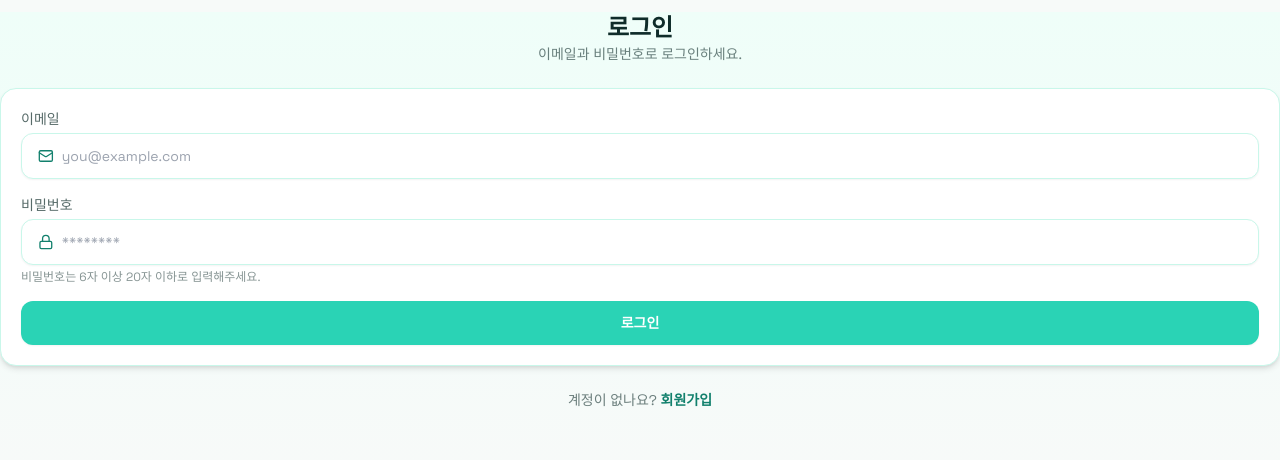
Scenario: Login › 로그인에_실패하면_공통_실패_메시지를_노출한다
Type "member@test.com" into the field labelled "이메일" at [652, 156], box [62,146,1242,166]
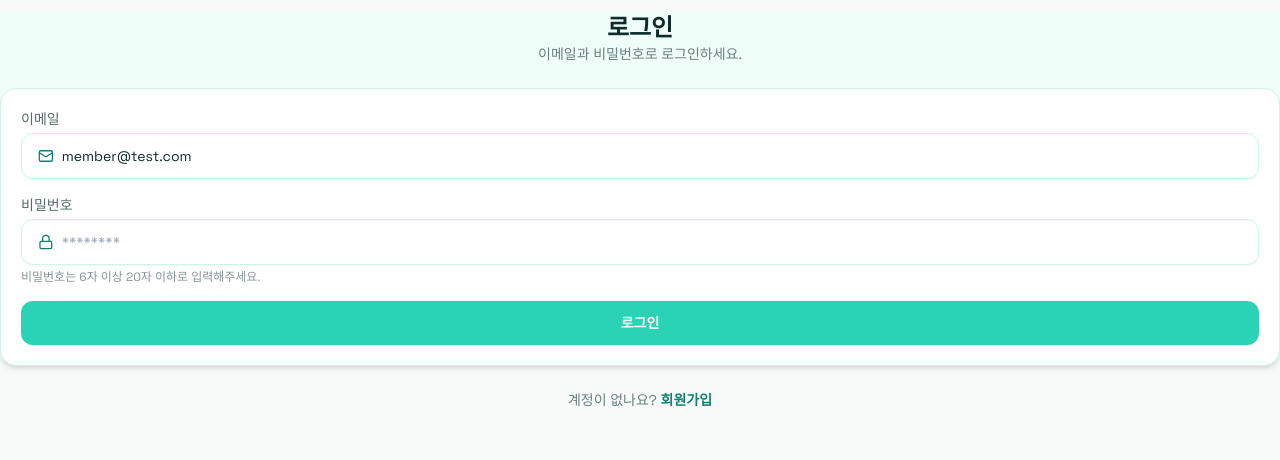
Type "wrongpass" into the password field labelled "비밀번호 비밀번호는 6자 이상 20자 이하로 입력해주세요." at [652, 242], box [62,232,1242,252]
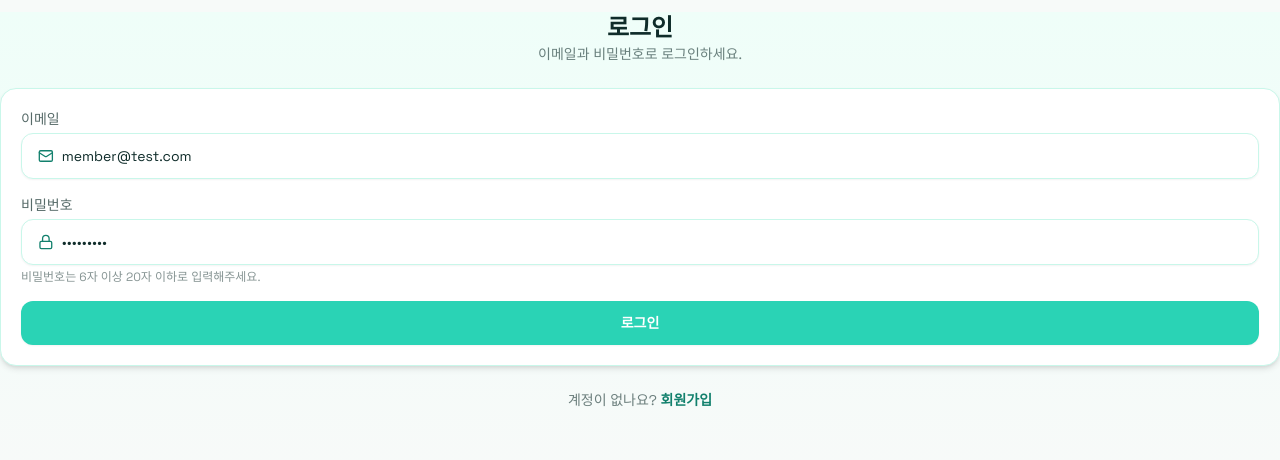
Click the button "로그인" at [640, 323], box [21,301,1259,345]
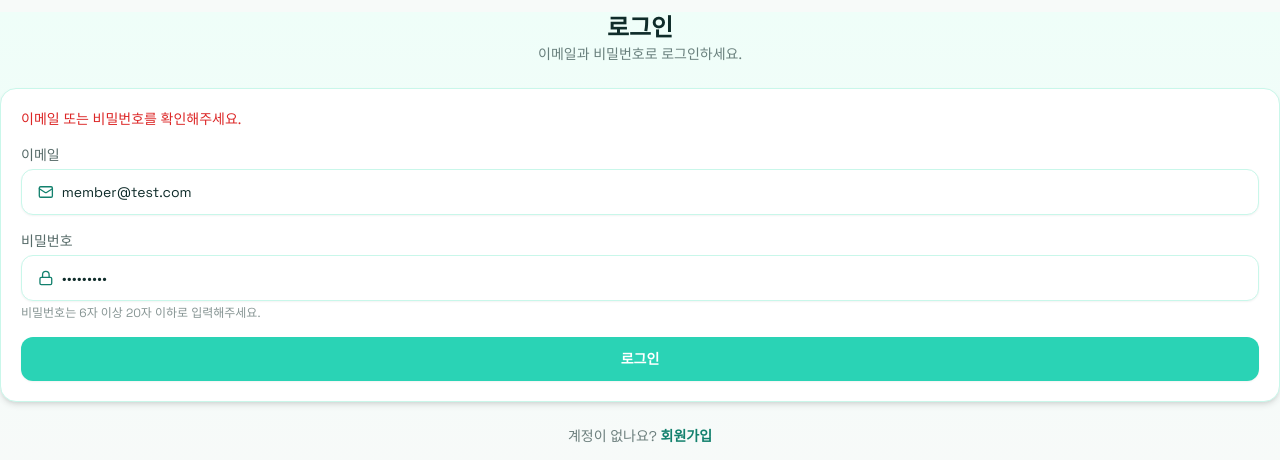
Check: the text "비밀번호는 6자 이상 20자 이하로 입력해주세요." is shown, box [21,305,260,321]
Check: the text "이메일 또는 비밀번호를 확인해주세요." is shown, box [21,110,241,128]
